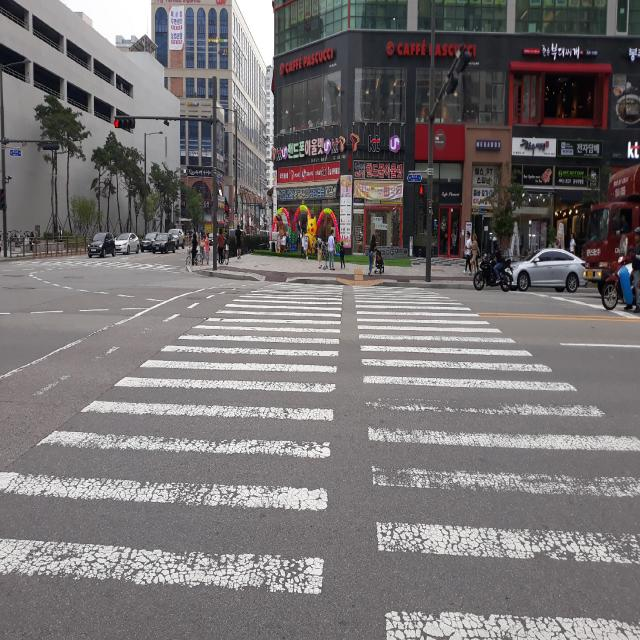빨간불: (418, 183, 425, 214)
횡단보도: (1, 283, 640, 640)
